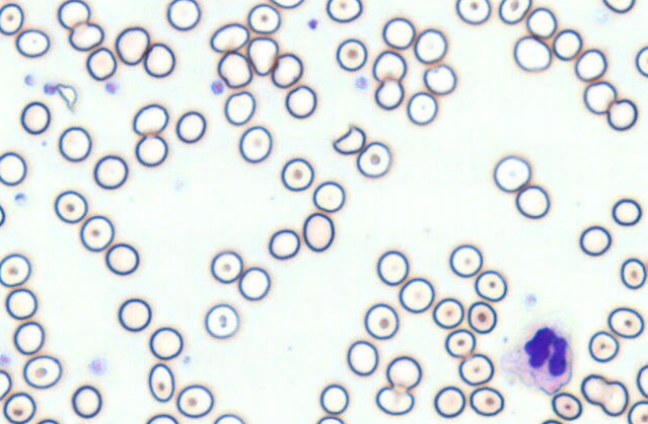GRAN: (503, 318, 574, 392)
PLT: (86, 356, 108, 378), (102, 80, 118, 97), (210, 78, 224, 97), (354, 73, 369, 90), (42, 81, 57, 96), (523, 292, 539, 306), (0, 352, 14, 367), (307, 17, 321, 30), (24, 72, 37, 85)
RBC: (493, 155, 531, 192), (513, 35, 551, 72), (114, 26, 150, 65), (22, 354, 62, 389), (385, 355, 422, 391), (363, 302, 399, 339), (356, 140, 391, 178), (217, 50, 252, 88), (79, 214, 114, 252), (302, 212, 335, 252), (398, 277, 434, 313), (176, 383, 213, 418), (238, 125, 272, 163), (204, 303, 239, 339), (58, 125, 92, 162), (247, 36, 279, 75), (209, 22, 249, 53), (515, 184, 550, 219), (117, 297, 152, 332), (93, 154, 128, 189), (413, 28, 447, 64), (132, 103, 169, 136), (148, 326, 183, 360), (448, 243, 483, 277), (53, 189, 88, 223), (458, 353, 494, 386), (376, 249, 409, 285), (607, 306, 644, 338), (346, 339, 378, 376), (375, 385, 414, 415), (583, 80, 617, 114), (280, 157, 314, 191), (104, 242, 139, 275), (271, 52, 303, 88), (372, 49, 406, 82), (134, 134, 168, 167), (381, 16, 415, 49), (147, 362, 175, 402), (13, 320, 45, 355), (238, 266, 270, 301), (85, 46, 117, 81), (143, 42, 175, 77), (285, 84, 317, 119), (68, 20, 104, 51), (474, 269, 507, 302), (210, 250, 243, 283), (574, 48, 607, 81), (335, 37, 367, 71), (406, 91, 438, 125), (0, 252, 31, 287), (166, 0, 201, 31), (224, 90, 255, 125), (599, 380, 629, 416), (3, 391, 36, 423), (433, 385, 465, 418), (5, 287, 37, 320), (606, 98, 638, 131), (423, 63, 456, 95), (312, 180, 345, 212), (71, 384, 102, 418), (20, 100, 51, 134), (247, 3, 281, 34), (469, 386, 504, 416), (56, 0, 91, 30), (15, 28, 50, 58), (432, 297, 464, 329), (268, 228, 300, 260), (579, 224, 611, 256), (175, 110, 206, 143), (588, 330, 619, 362), (526, 6, 557, 38), (467, 300, 497, 333), (444, 328, 476, 358), (374, 78, 404, 110), (552, 28, 582, 60), (0, 151, 27, 186), (319, 383, 349, 414), (455, 0, 491, 25), (551, 391, 582, 420), (611, 197, 642, 226), (580, 373, 607, 405), (620, 257, 646, 289), (325, 0, 362, 22), (0, 2, 24, 35), (498, 0, 531, 24), (627, 400, 647, 423), (602, 0, 635, 13), (635, 45, 647, 77), (636, 364, 647, 398), (0, 369, 12, 400), (145, 413, 179, 423), (213, 413, 245, 423), (269, 0, 304, 9), (315, 415, 344, 423), (35, 418, 60, 424), (0, 204, 6, 227), (540, 418, 563, 423)
Schistocyte: (332, 123, 367, 156), (56, 82, 78, 110)
